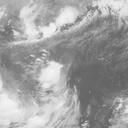cyclone: (36, 60, 65, 93)
